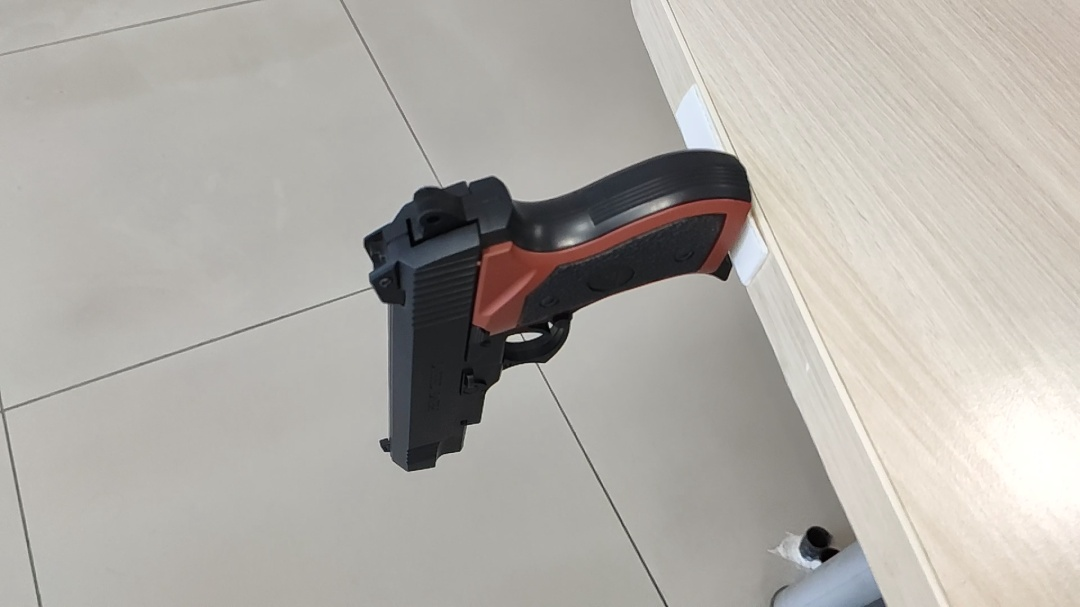gun: (639, 187, 888, 334)
